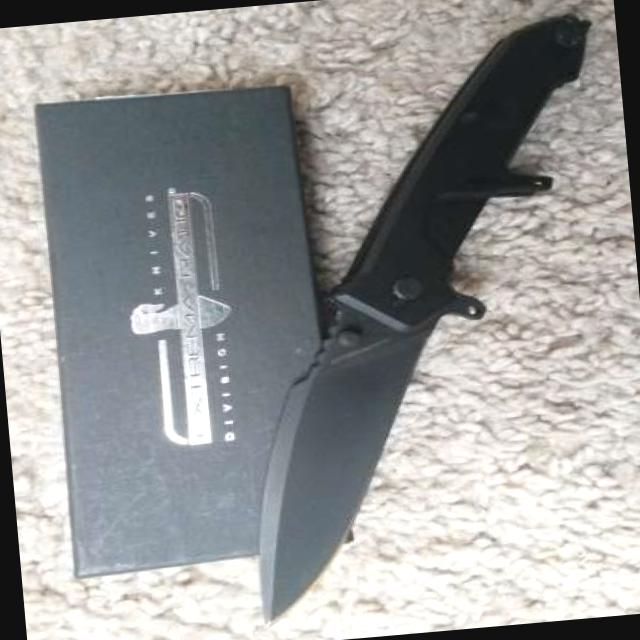knife: (227, 294, 466, 632)
